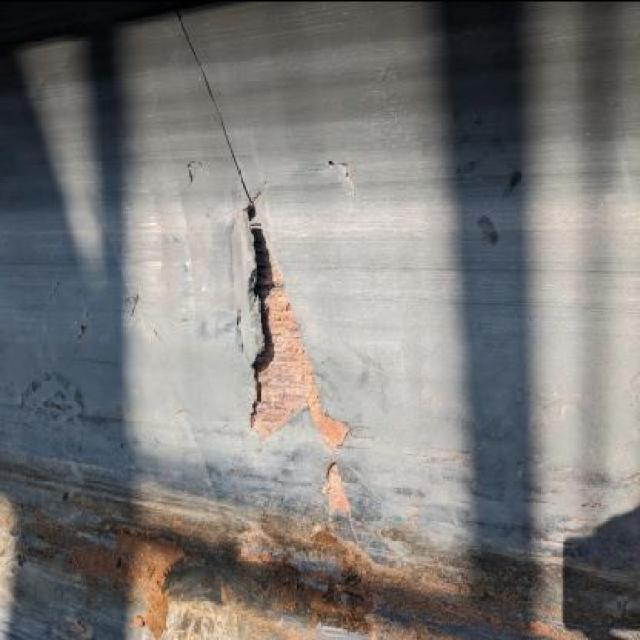Tear: (172, 4, 360, 532), (316, 147, 366, 198), (40, 275, 67, 340), (67, 290, 92, 349), (118, 284, 144, 328), (182, 152, 203, 193)
